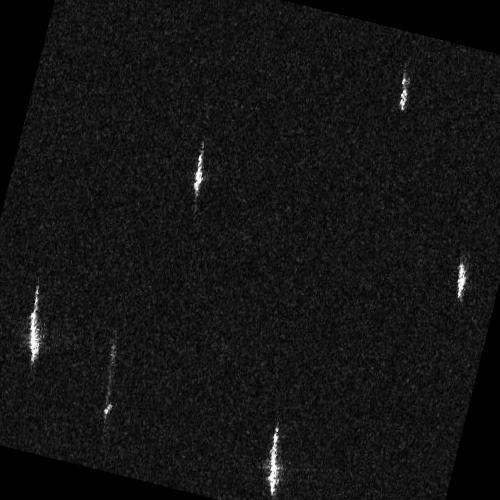ship: (28, 284, 42, 366), (103, 344, 117, 417), (268, 425, 280, 498), (192, 148, 205, 197), (456, 261, 467, 300), (399, 74, 409, 113)
